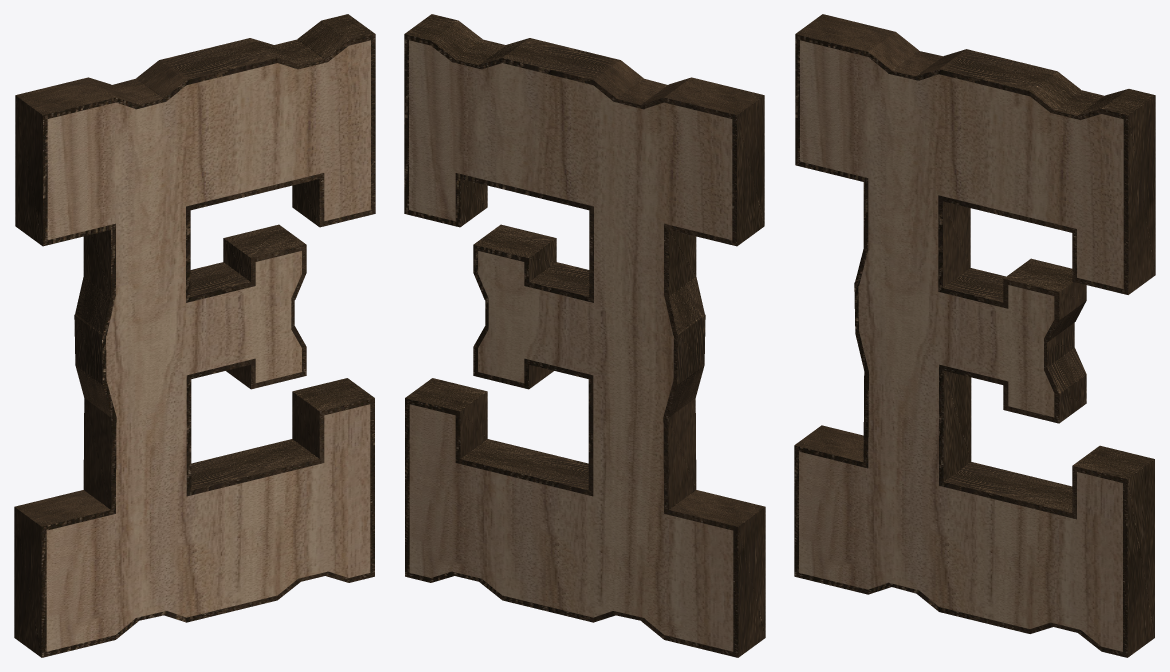
The picture shows the model from 3 angles, left to right: view 1: azimuth 30°, elevation 25°; view 2: azimuth 150°, elevation 25°; view 3: azimuth 330°, elevation 25°; orthographic projection.
Parts seen in each view (by area): view 1: E, E_outline; view 2: E, E_outline; view 3: E, E_outline.
Part boxes in pixels (x1,y1,x2,y2): E: (46,40,370,651); E_outline: (14,14,375,657); E: (409,40,733,651); E_outline: (404,14,765,657); E: (799,40,1123,651); E_outline: (794,14,1155,657).
Size of the model in its own units: 70.1 by 109 by 10.
Materials: 2 (2 with a texture image).
